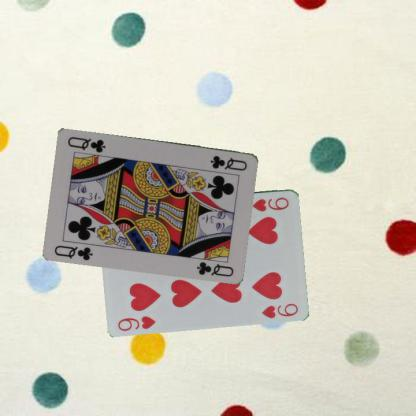9h: (115, 313, 157, 332), (250, 194, 290, 213)
Qc: (52, 242, 94, 262), (208, 152, 249, 172)
